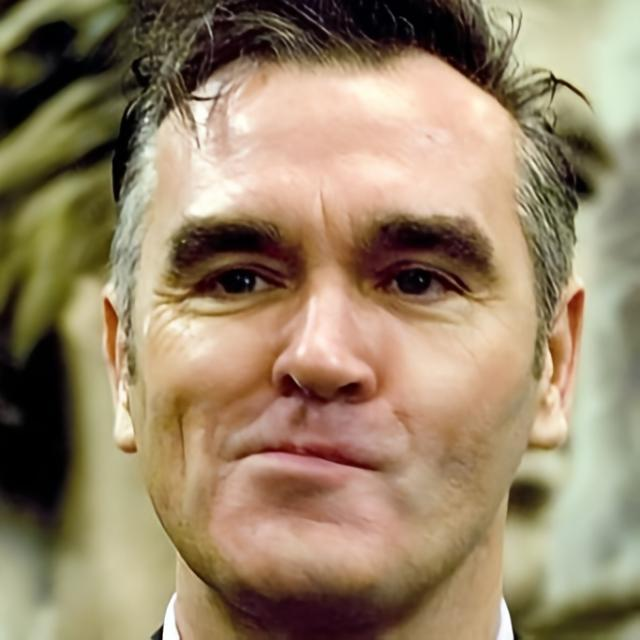content: (126, 39, 538, 626)
